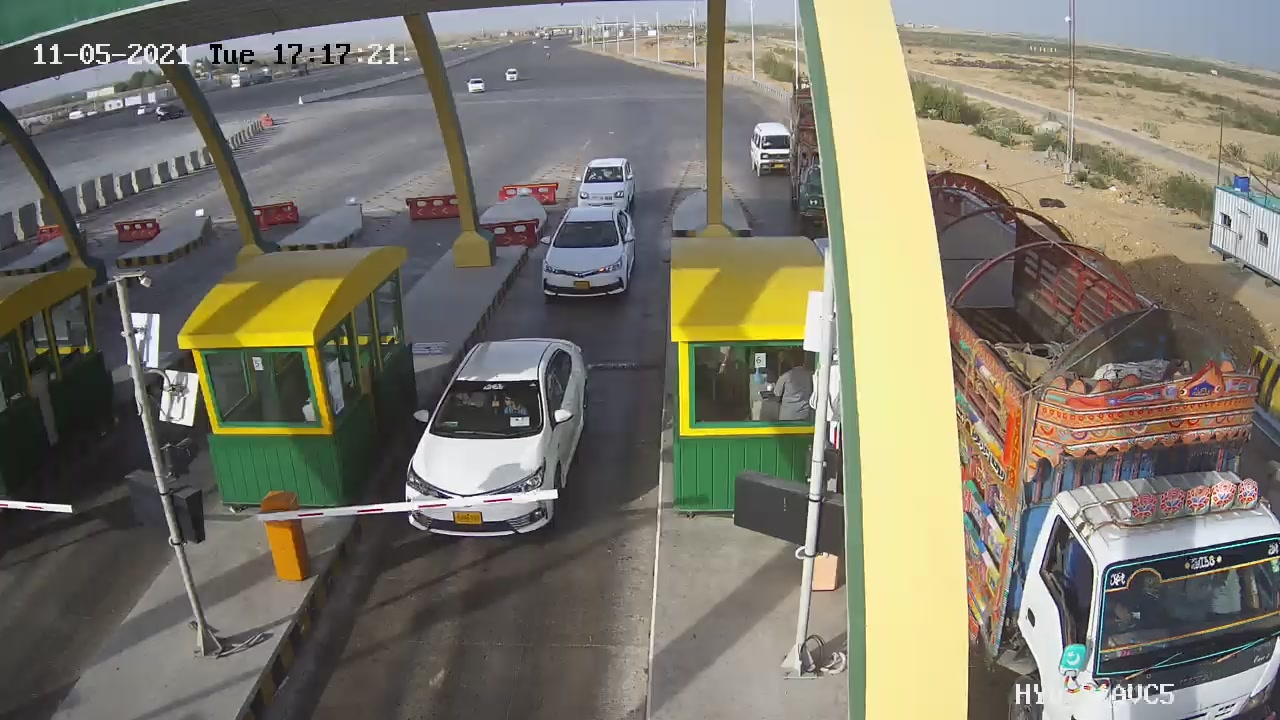F1: (392, 325, 603, 556), (527, 196, 648, 313)
